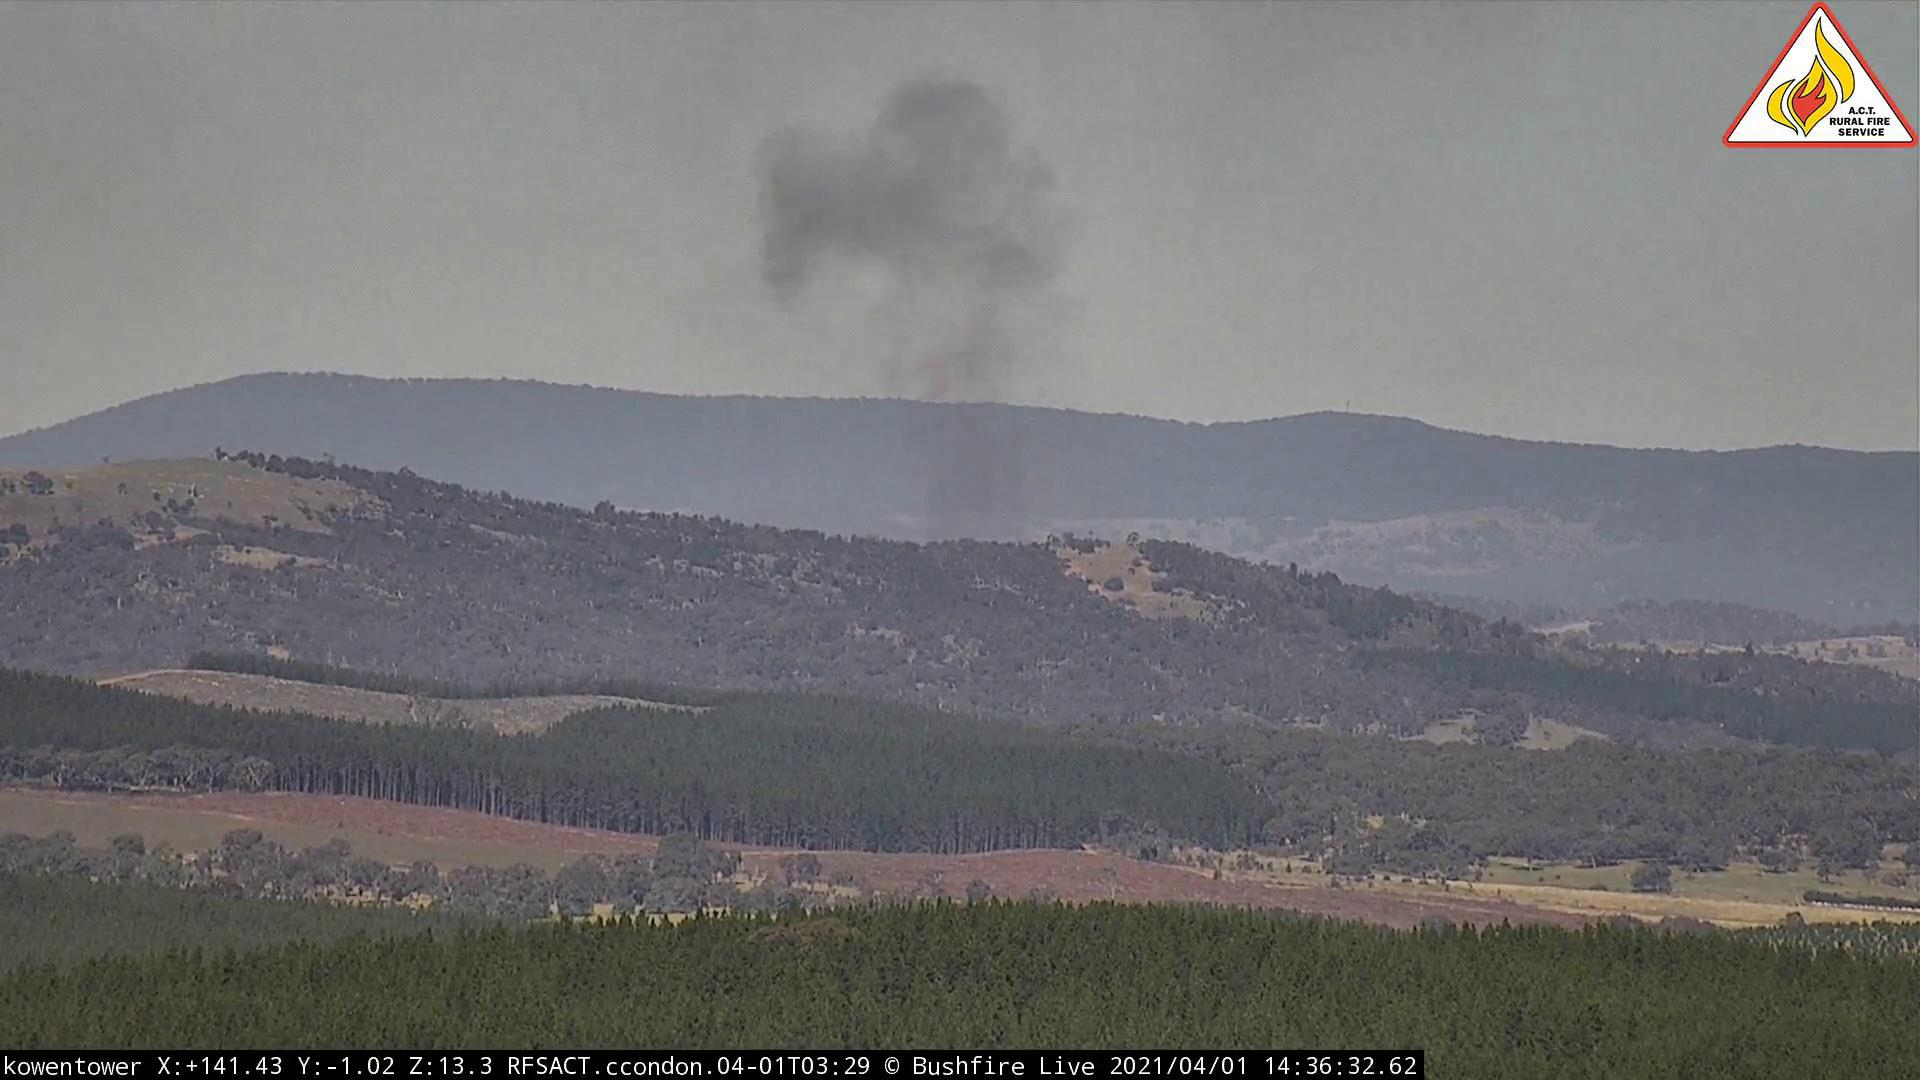Smoke: (731, 71, 1106, 570)
